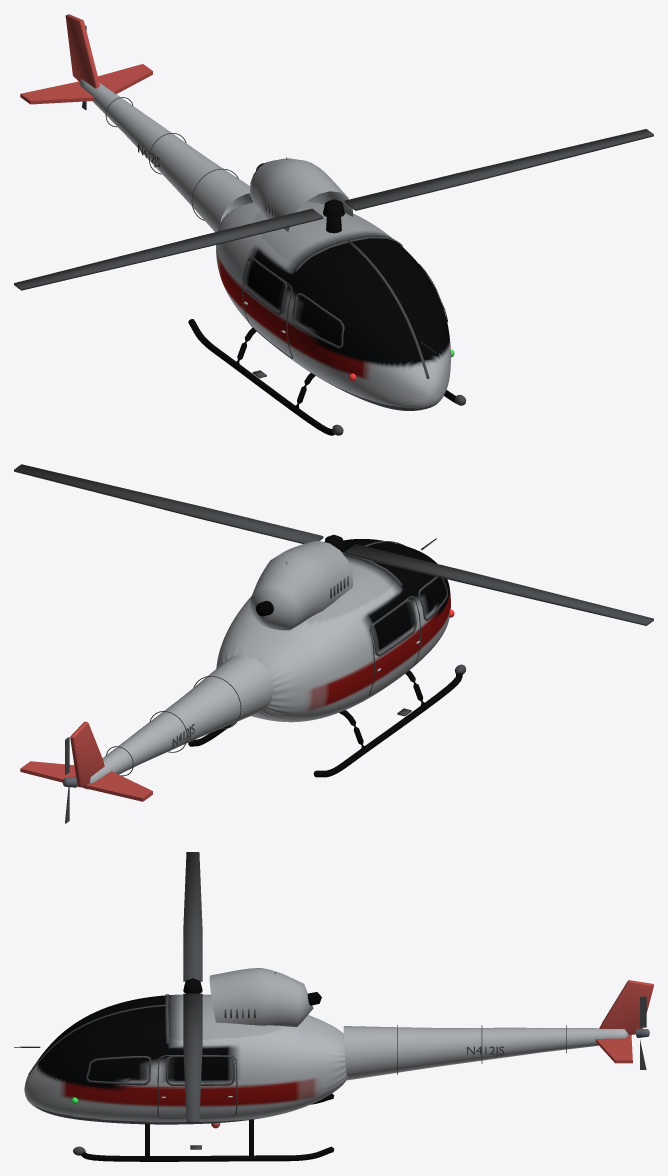
The model's file is helicopter.glb.
3 views of the same model, one above another, from view 1: azimuth 30°, elevation 25°; view 2: azimuth 150°, elevation 25°; view 3: azimuth 270°, elevation 25° (orthographic). The views are drawn at different scales.
Visible parts, largest first — view 1: Fuselage, Boom, Cowl, Blade, Blade.001, Fin, Skid, Stab, Stab.001; view 2: Fuselage, Boom, Cowl, Blade, Blade.001, Fin, Skid, Stab, Stab.001; view 3: Fuselage, Boom, Cowl, Blade.001, Blade, Skid.001, Fin, Stab.001.
Part boxes in pixels (box(x1,y1,x2,y2)): Fuselage: box(216, 201, 450, 410); Boom: box(79, 79, 253, 232); Cowl: box(250, 158, 353, 231); Blade: box(14, 208, 323, 290); Blade.001: box(344, 129, 653, 210); Fin: box(65, 14, 99, 88); Skid: box(188, 319, 334, 435); Stab: box(20, 81, 94, 104); Stab.001: box(98, 64, 152, 93); Fuselage: box(216, 539, 450, 722); Boom: box(84, 655, 273, 789); Cowl: box(250, 540, 353, 630); Blade: box(344, 544, 653, 625); Blade.001: box(14, 464, 323, 543); Fin: box(70, 721, 104, 787); Skid: box(313, 672, 462, 777); Stab: box(82, 771, 152, 801); Stab.001: box(20, 761, 82, 787); Fuselage: box(24, 994, 347, 1124); Boom: box(343, 1026, 629, 1080); Cowl: box(209, 968, 313, 1026); Blade.001: box(183, 993, 202, 1122); Blade: box(183, 852, 202, 981); Skid.001: box(81, 1146, 334, 1161); Fin: box(600, 980, 653, 1034); Stab.001: box(595, 1035, 632, 1063).
Bounding box in the file's own units: 9.8 × 2.76 × 9.85.
